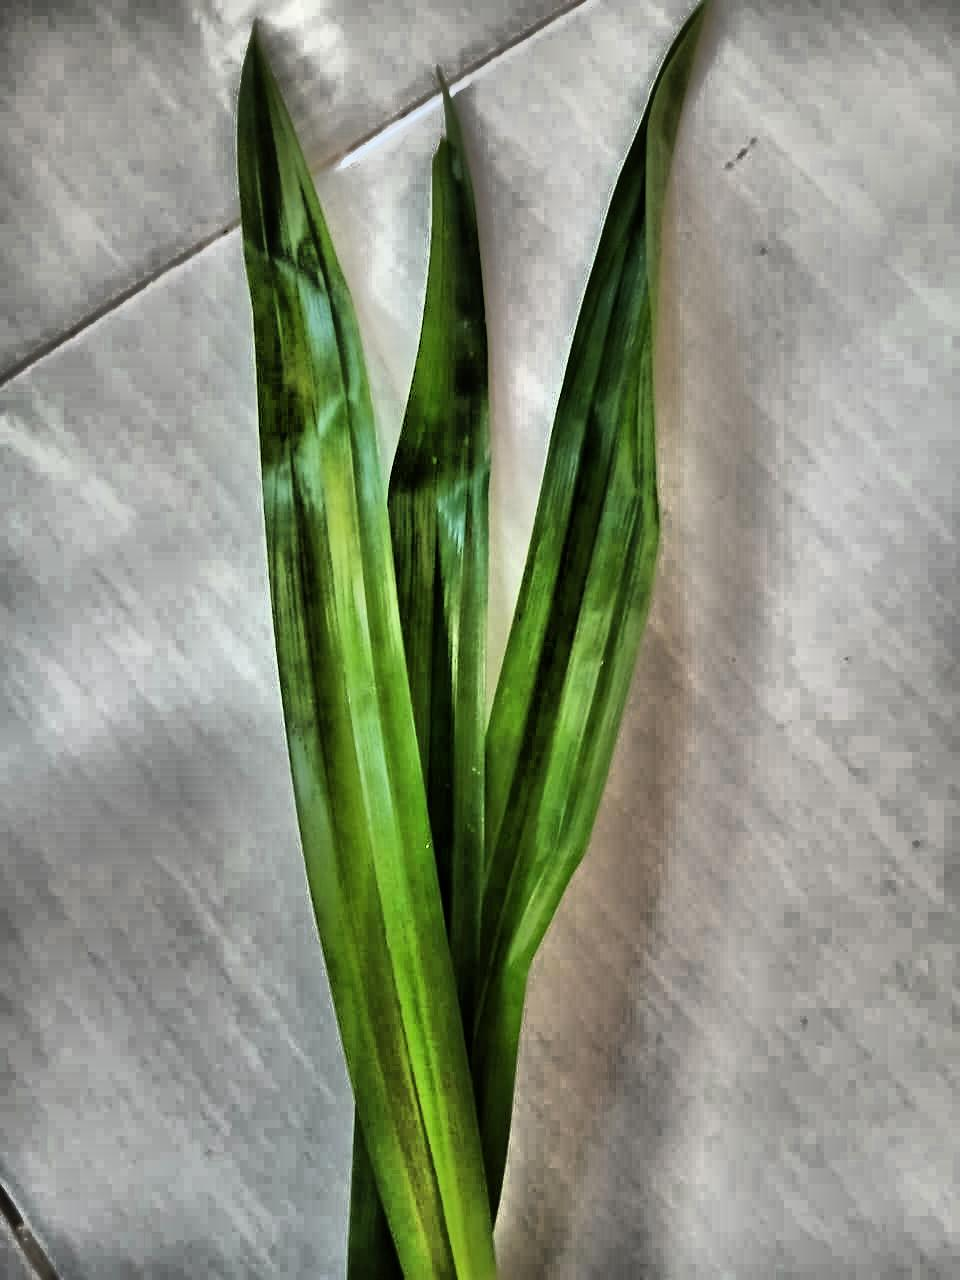daun pandan: (238, 4, 704, 1279)
